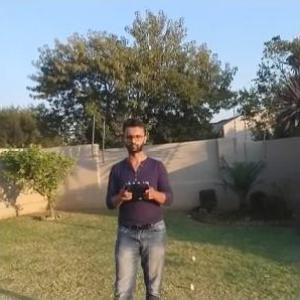follow: (97, 107, 175, 299)
